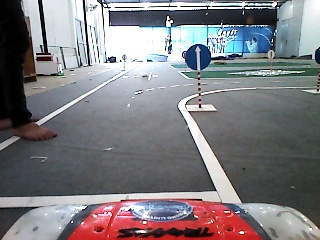straight: (185, 44, 212, 70)
